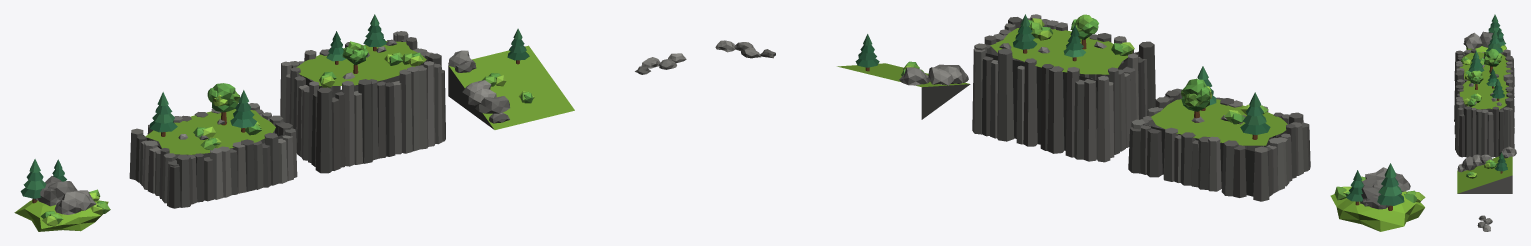
File: terrain.glb
3 renders of one model, left to right at view 1: azimuth 30°, elevation 25°; view 2: azimuth 150°, elevation 25°; view 3: azimuth 270°, elevation 25°, orthographic. The views are drawn at different scales.
Parts seen in each view (by area): view 1: cliff_tall, cliff_edge, slope_piece, rocky_bump, bank_stones; view 2: cliff_tall, cliff_edge, rocky_bump, slope_piece, bank_stones; view 3: cliff_tall, slope_piece, cliff_edge, rocky_bump, bank_stones.
Part boxes in pixels (x1,y1,x2,y2): cliff_tall: [280, 14, 445, 173]; cliff_edge: [129, 83, 297, 208]; slope_piece: [448, 28, 574, 129]; rocky_bump: [14, 159, 110, 231]; bank_stones: [635, 53, 686, 74]; cliff_tall: [972, 14, 1155, 162]; cliff_edge: [1128, 66, 1310, 201]; rocky_bump: [1330, 163, 1425, 231]; slope_piece: [837, 34, 970, 119]; bank_stones: [715, 40, 775, 58]; cliff_tall: [1454, 68, 1514, 157]; slope_piece: [1457, 146, 1516, 193]; cliff_edge: [1454, 30, 1514, 111]; rocky_bump: [1463, 14, 1506, 52]; bank_stones: [1477, 215, 1492, 231].
Size of the model in its own units: 19.48 by 3.52 by 2.69.
